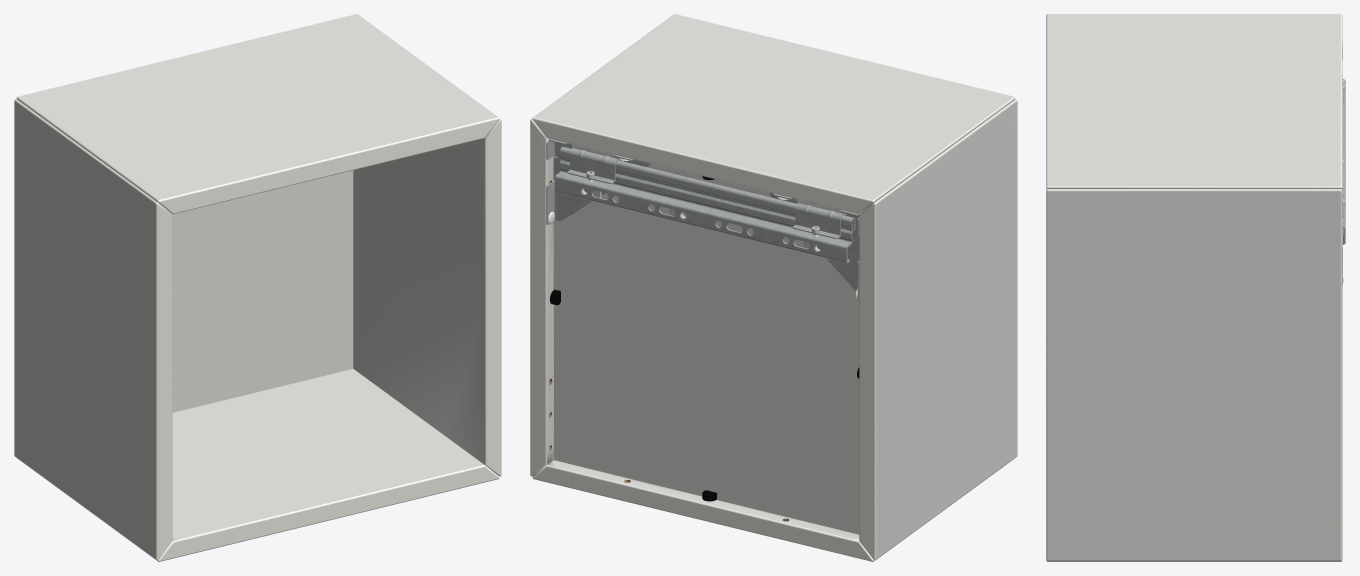
File: eket_szafka_scienna_39285808.glb
3 renders of one model, left to right at view 1: azimuth 30°, elevation 25°; view 2: azimuth 150°, elevation 25°; view 3: azimuth 270°, elevation 25°, orthographic. The views are drawn at different scales.
Parts seen in each view (by area): view 1: eket_szafka_scienna_39285808; view 2: eket_szafka_scienna_39285808; view 3: eket_szafka_scienna_39285808.
Boxes of the visible parts, box(x1,y1,x2,y2) form: eket_szafka_scienna_39285808: box(14, 14, 501, 561); eket_szafka_scienna_39285808: box(530, 14, 1017, 561); eket_szafka_scienna_39285808: box(1046, 14, 1345, 561).
Size of the model in its own units: 0.35 by 0.35 by 0.2527.
Materials: 1 (1 with a texture image).
